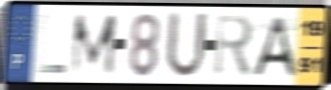8: (129, 12, 162, 79)
A: (249, 15, 298, 79)
L: (36, 12, 68, 75)
M: (69, 12, 119, 77)
R: (212, 12, 257, 80)
U: (163, 9, 210, 82)
